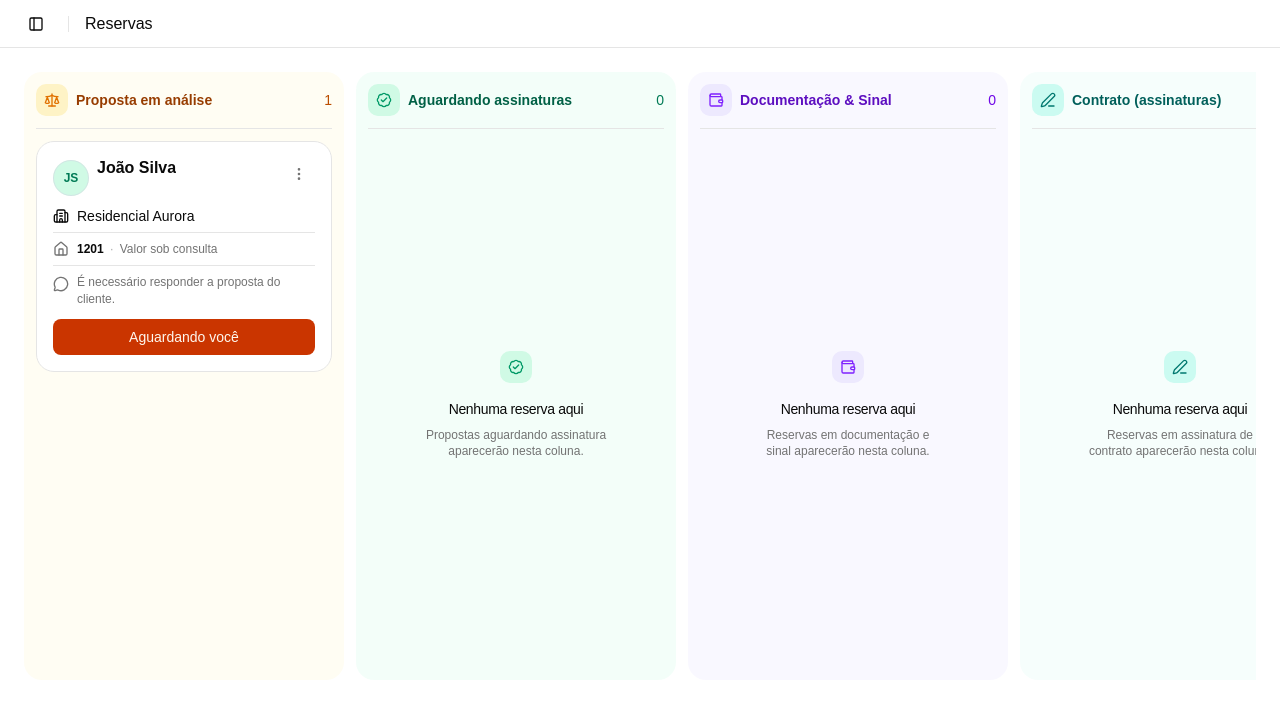
Scenario: ReservationsPage › opens cancel dialog from the actions menu
The image size is (1280, 720).
Click the button named "Ações — João Silva".
click(299, 174)  # box [283,158,315,190]
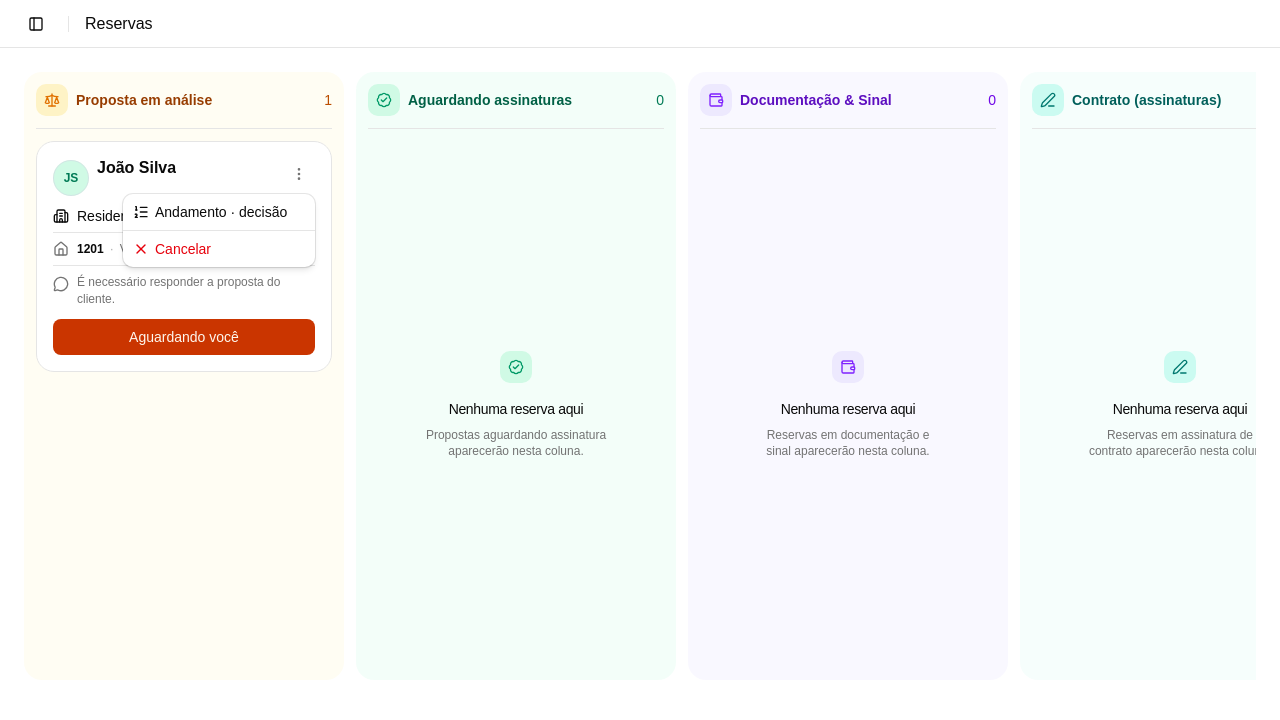
expect the menu item "Cancelar" is shown: met
Click the menu item "Cancelar".
click(172, 249)  # box [133,241,211,257]
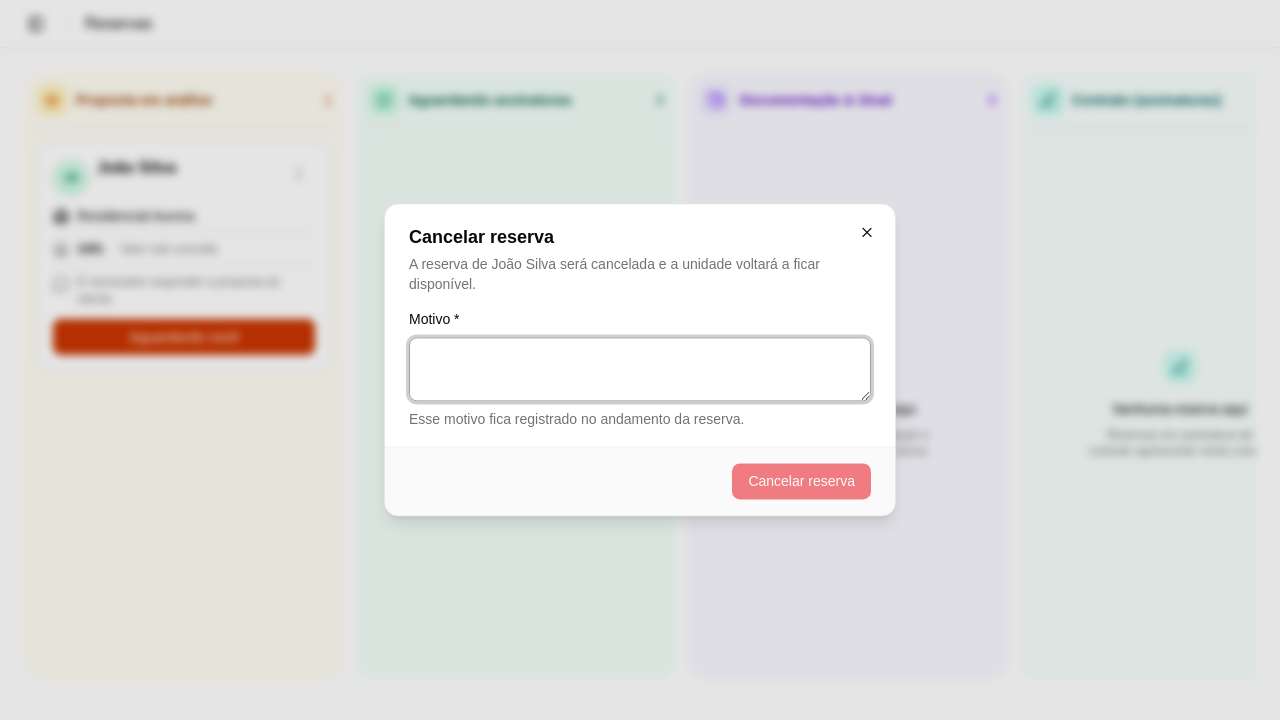
expect the dialog "Cancelar reserva" is shown: met, box [384,203,896,517]
expect the text box labelled "Motivo *" is shown: met, box [409,338,871,402]
